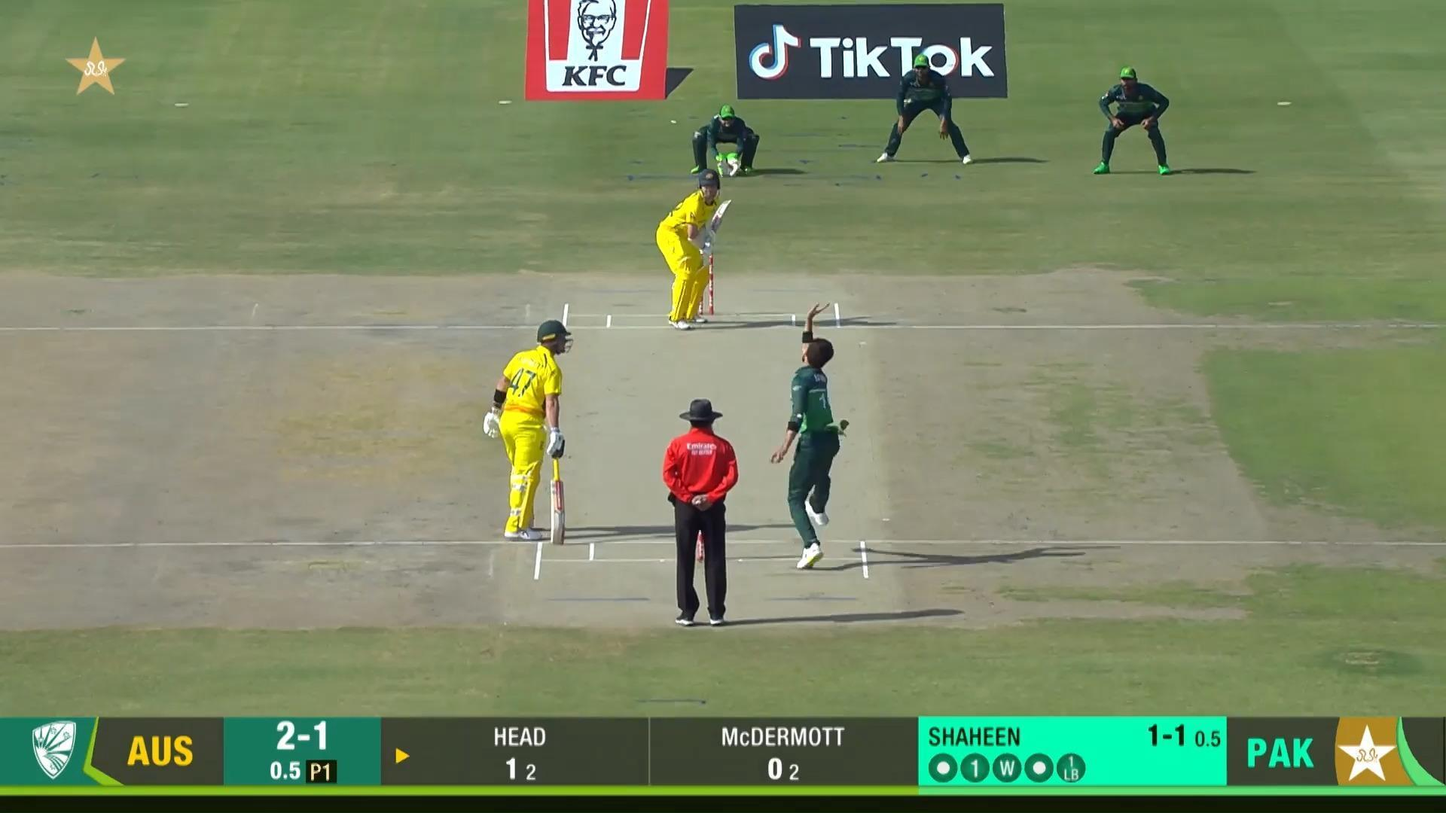BM 1: (656, 169, 733, 331)
BO: (771, 301, 851, 570)
